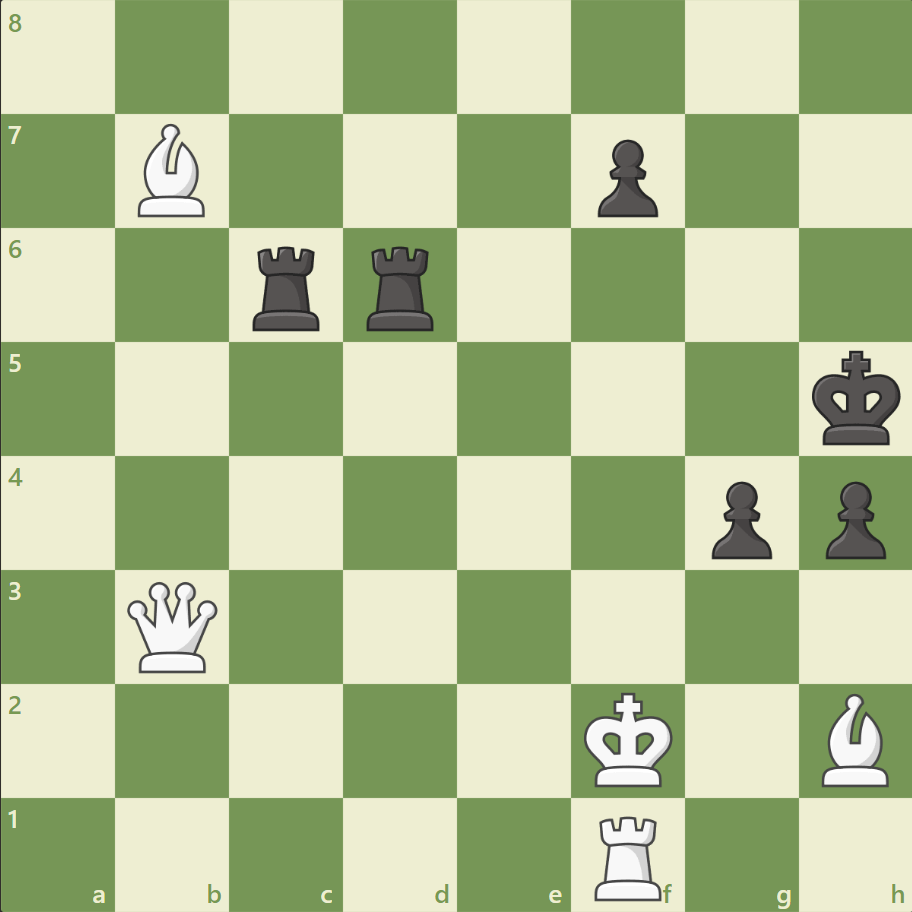B: (812, 687, 896, 790), (131, 120, 215, 222)
K: (579, 685, 679, 793)
Q: (124, 576, 223, 676)
R: (587, 806, 670, 904)
k: (806, 344, 906, 452)
p: (701, 473, 776, 564), (588, 132, 662, 223), (815, 473, 889, 564)
r: (246, 239, 329, 336), (360, 239, 442, 336)
